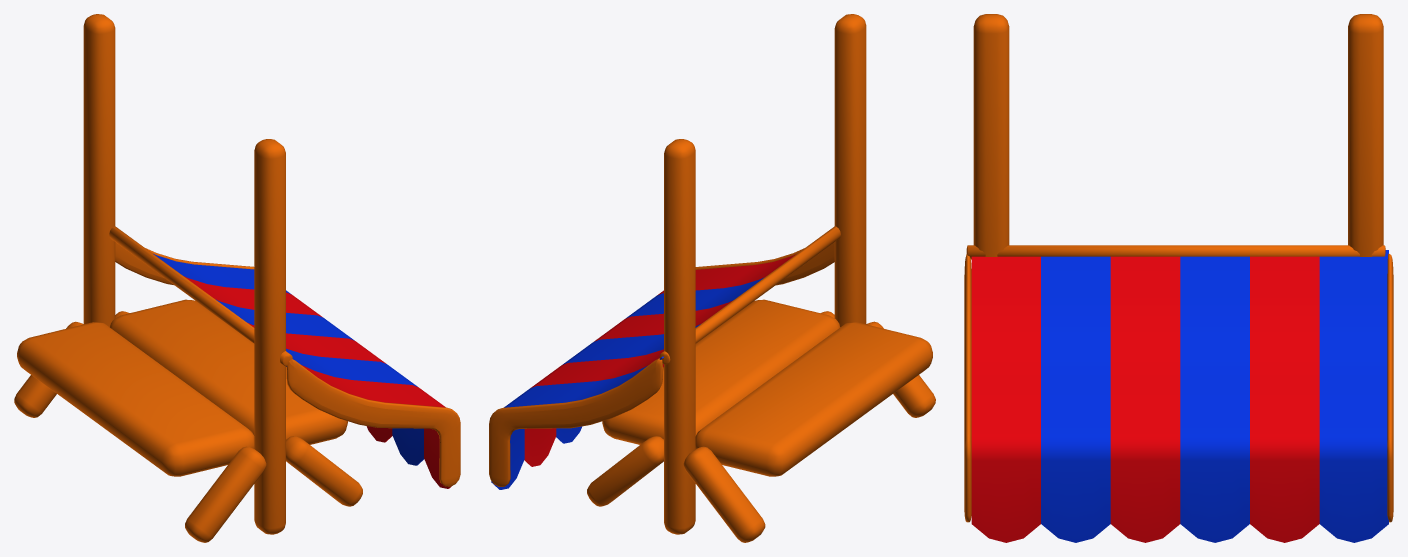
Rendered from Kraampje.fbx.
3 renders of one model, left to right at view 1: azimuth 30°, elevation 25°; view 2: azimuth 150°, elevation 25°; view 3: azimuth 270°, elevation 25°, orthographic. The views are drawn at different scales.
Visible parts, largest first — view 1: Cube.028, Cube.024; view 2: Cube.028, Cube.024; view 3: Cube.024, Cube.028.
Boxes of the visible parts, <box> form: Cube.028: <box>14,14,362,542</box>; Cube.024: <box>109,226,460,488</box>; Cube.028: <box>587,14,935,542</box>; Cube.024: <box>489,226,840,489</box>; Cube.024: <box>964,245,1393,542</box>; Cube.028: <box>973,14,1383,256</box>.
Bounding box in the file's own units: 199 × 274 × 247.
